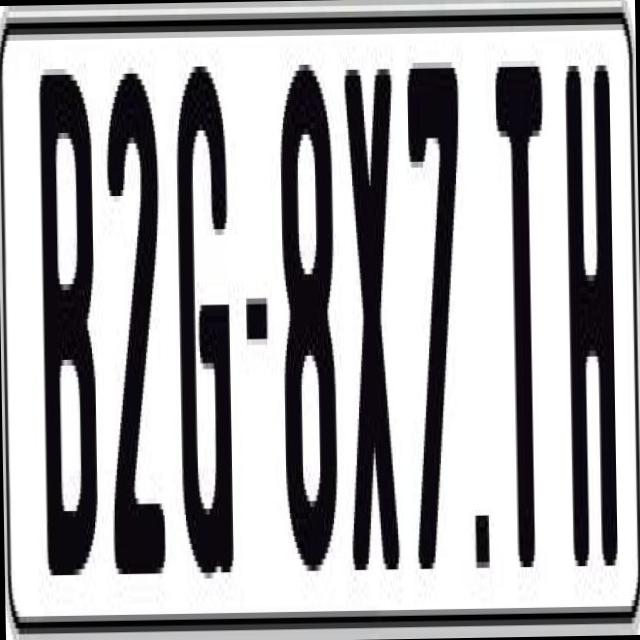2: (104, 61, 172, 580)
7: (406, 68, 472, 574)
8: (276, 51, 344, 588)
B: (37, 62, 100, 599)
G: (174, 53, 240, 584)
H: (561, 53, 619, 584)
T: (491, 48, 553, 556)
X: (342, 68, 402, 599)
